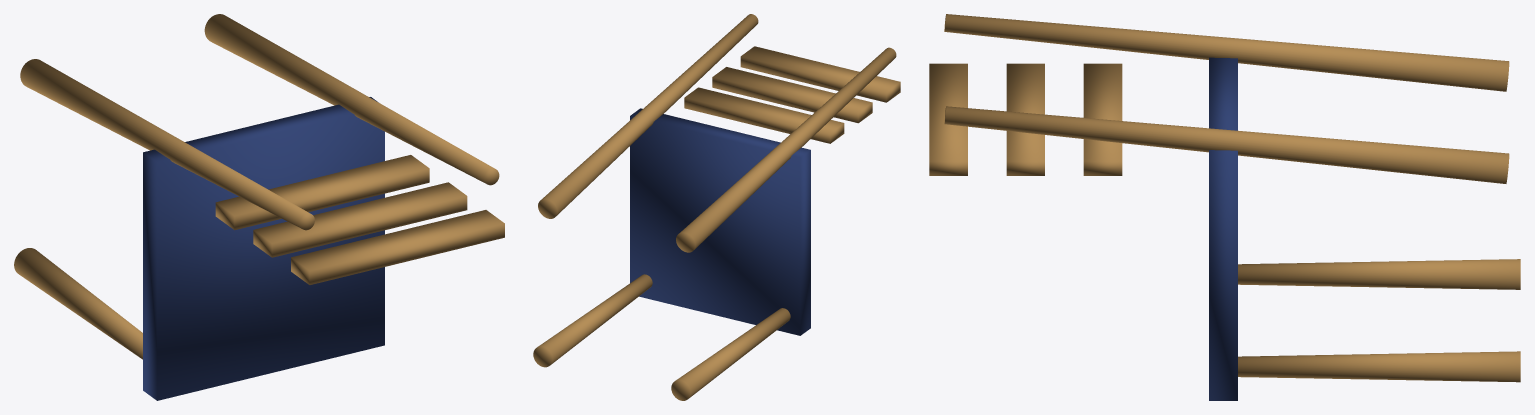
The model's file is chair.obj.
3 renders of one model, left to right at view 1: azimuth 30°, elevation 25°; view 2: azimuth 150°, elevation 25°; view 3: azimuth 270°, elevation 25°, orthographic. The views are drawn at different scales.
Parts seen in each view (by area): view 1: seat_0, post2_3, post3_4, slat2_7, slat1_6, slat0_5, leg0_1; view 2: seat_0, post3_4, post2_3, slat2_7, slat1_6, slat0_5, leg1_2, leg0_1; view 3: post3_4, post2_3, seat_0, leg1_2, leg0_1, slat2_7, slat0_5, slat1_6.
Part boxes in pixels (left/top/right/bottom): seat_0: left=143, top=97, right=384, bottom=400; post2_3: left=20, top=59, right=314, bottom=230; post3_4: left=204, top=14, right=499, bottom=185; slat2_7: left=291, top=210, right=504, bottom=284; slat1_6: left=253, top=182, right=467, bottom=257; slat0_5: left=215, top=155, right=429, bottom=230; leg0_1: left=14, top=248, right=142, bottom=359; seat_0: left=630, top=108, right=810, bottom=335; post3_4: left=538, top=14, right=758, bottom=218; post2_3: left=676, top=47, right=896, bottom=252; slat2_7: left=740, top=46, right=900, bottom=102; slat1_6: left=712, top=67, right=872, bottom=123; slat0_5: left=684, top=87, right=844, bottom=143; leg1_2: left=533, top=274, right=652, bottom=367; leg0_1: left=671, top=308, right=790, bottom=400; post3_4: left=944, top=106, right=1509, bottom=183; post2_3: left=944, top=14, right=1509, bottom=91; seat_0: left=1209, top=57, right=1237, bottom=400; leg1_2: left=1238, top=351, right=1520, bottom=382; leg0_1: left=1238, top=259, right=1520, bottom=289; slat2_7: left=929, top=63, right=967, bottom=175; slat0_5: left=1083, top=63, right=1122, bottom=175; slat1_6: left=1006, top=63, right=1044, bottom=175.
Bounding box in the file's own units: 0.42 × 0.4859 × 0.92.
